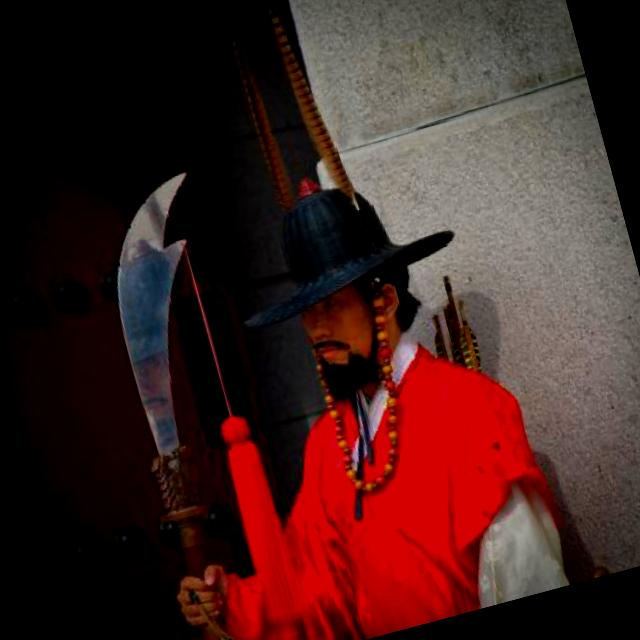Person: (78, 137, 577, 640)
